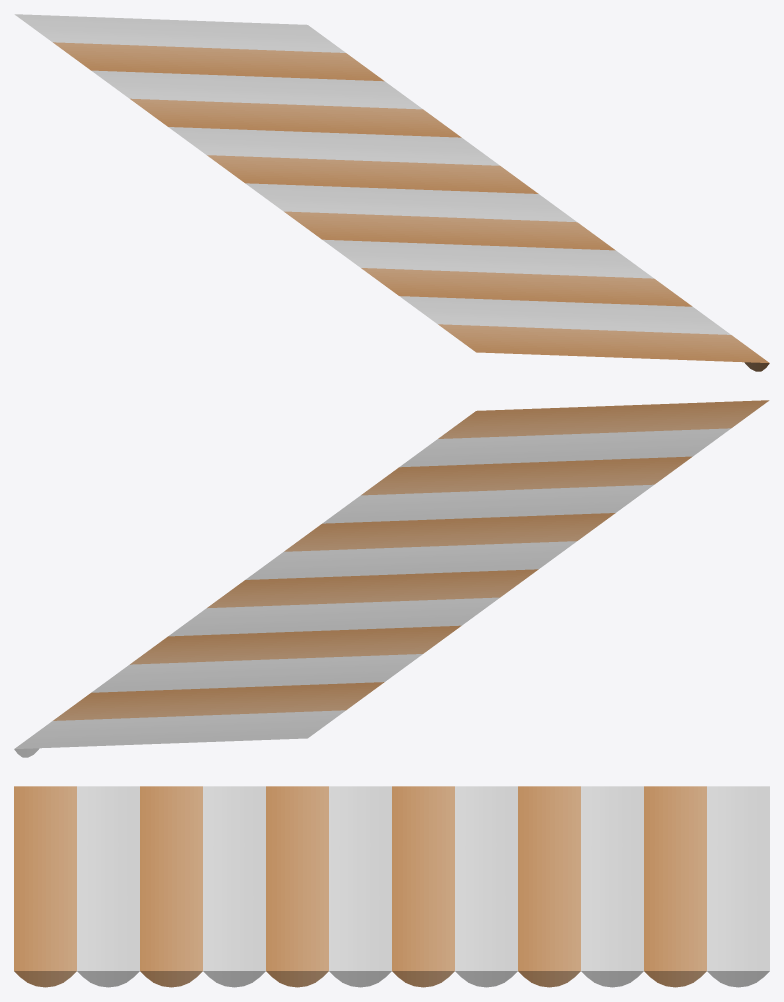
Rendered from SM_overhang.fbx.
The picture shows the model from 3 angles, top to bottom: view 1: azimuth 30°, elevation 25°; view 2: azimuth 150°, elevation 25°; view 3: azimuth 270°, elevation 25°; orthographic projection. The views are drawn at different scales.
Parts seen in each view (by area): view 1: SM_overhang; view 2: SM_overhang; view 3: SM_overhang.
Boxes of the visible parts, x1,y1,x2,y2 form: SM_overhang: [14, 14, 769, 371]; SM_overhang: [14, 400, 769, 757]; SM_overhang: [14, 786, 769, 987].
Size of the model in its own units: 159 by 52.79 by 432.
